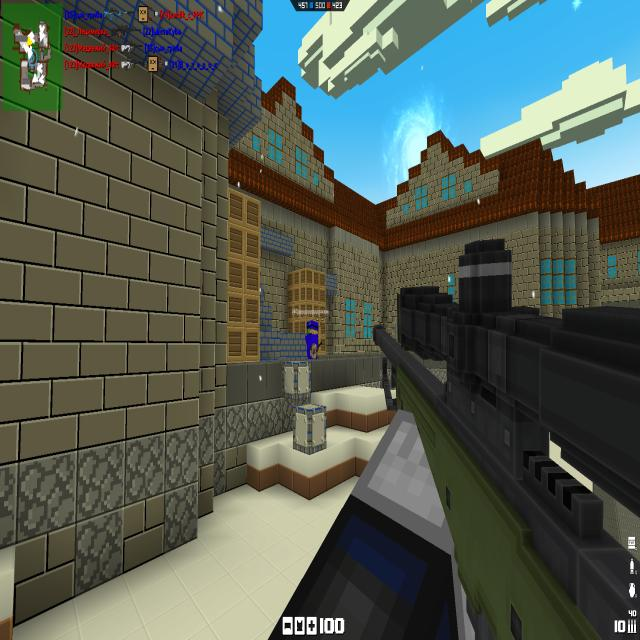player: (306, 320, 320, 360)
